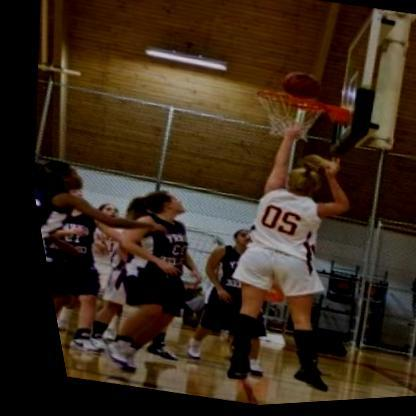basketball: (269, 64, 324, 109)
rim: (241, 88, 332, 153)
